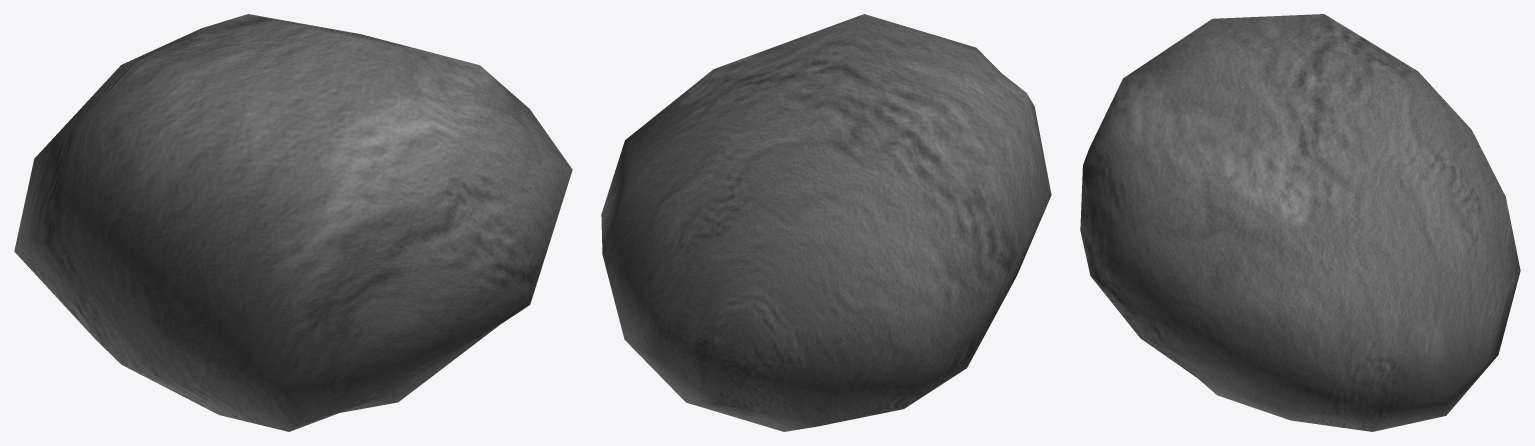
File: Stone7Shape.dae
3 renders of one model, left to right at view 1: azimuth 30°, elevation 25°; view 2: azimuth 150°, elevation 25°; view 3: azimuth 270°, elevation 25°, orthographic. The views are drawn at different scales.
Parts seen in each view (by area): view 1: Stone7; view 2: Stone7; view 3: Stone7.
Boxes of the visible parts, x1,y1,x2,y2 form: Stone7: (14,14,572,431); Stone7: (601,14,1051,431); Stone7: (1080,14,1520,431).
Bounding box in the file's own units: 6.31 × 5.05 × 5.81.
